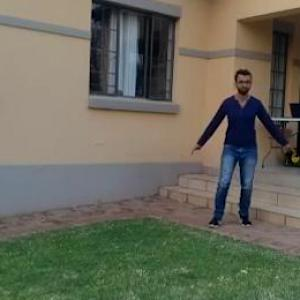land: (185, 75, 285, 234)
